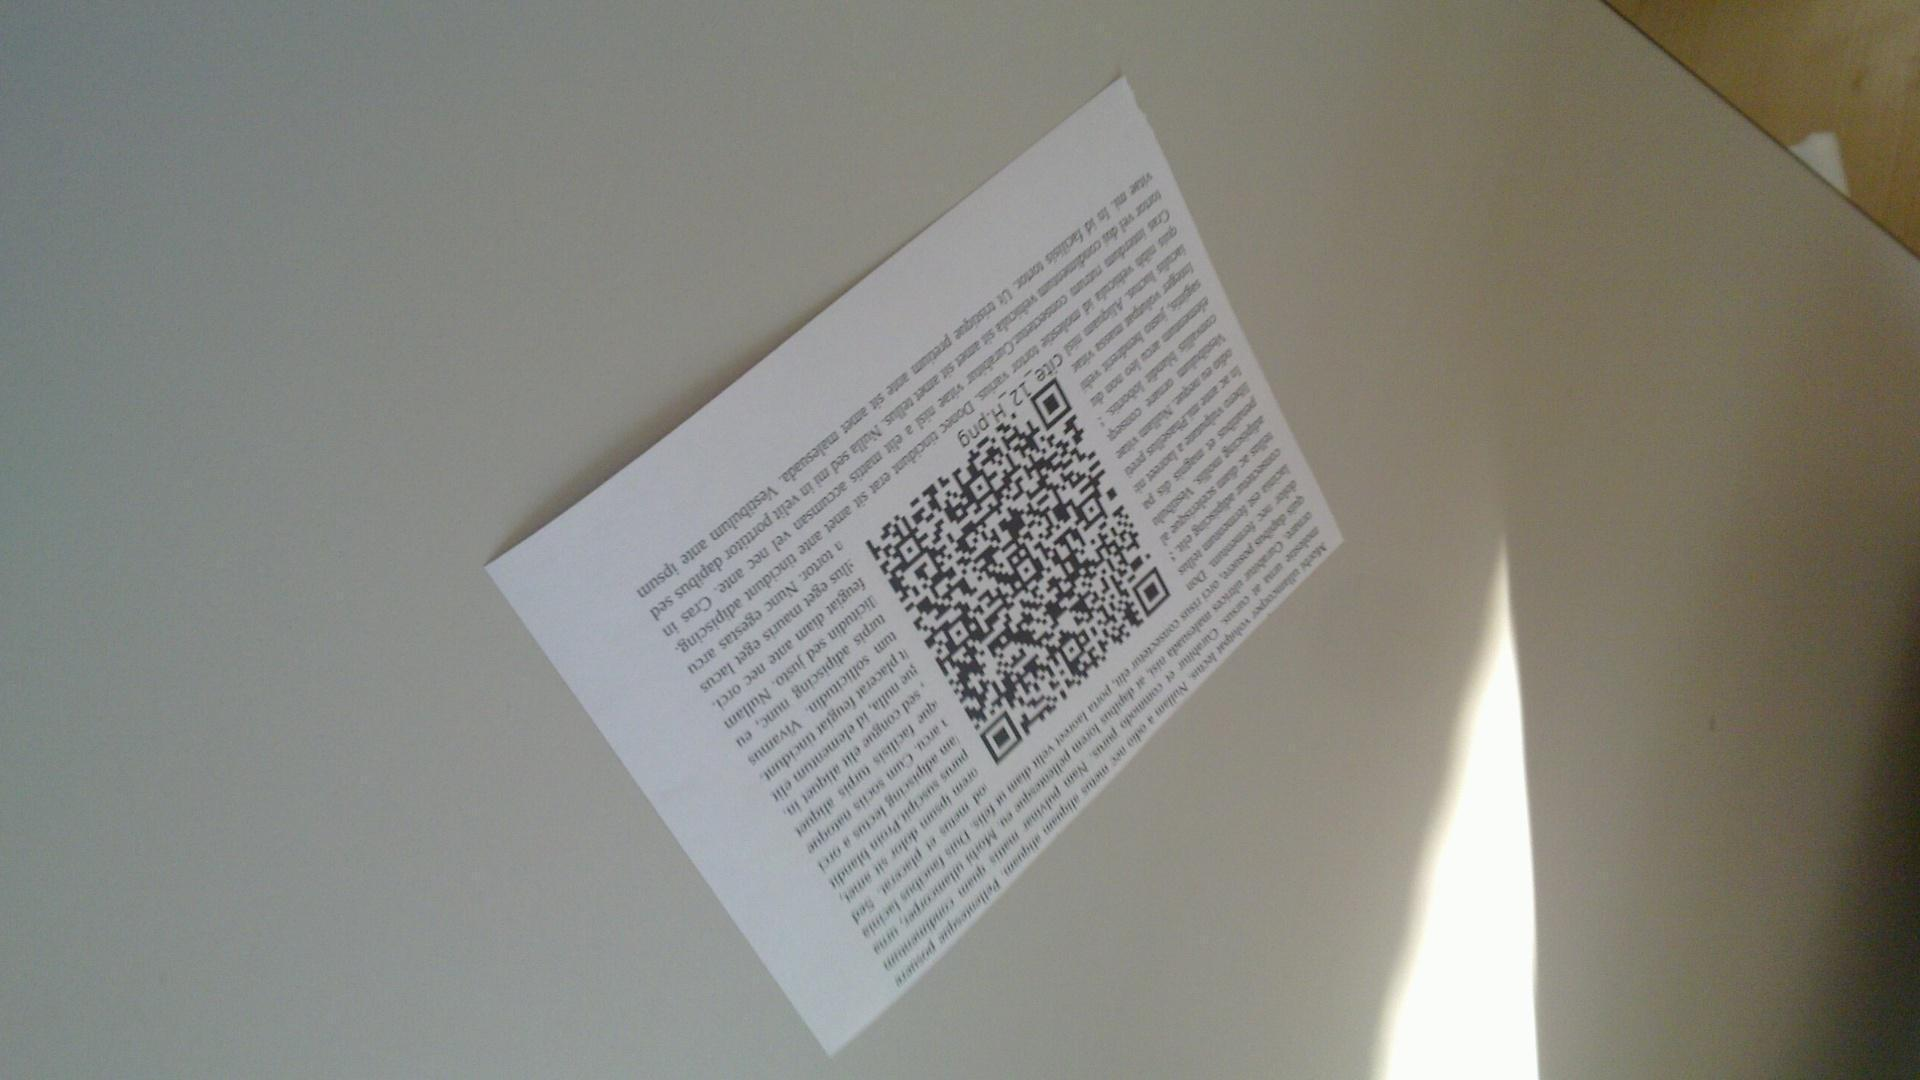qr_code: (865, 377, 1171, 765)
